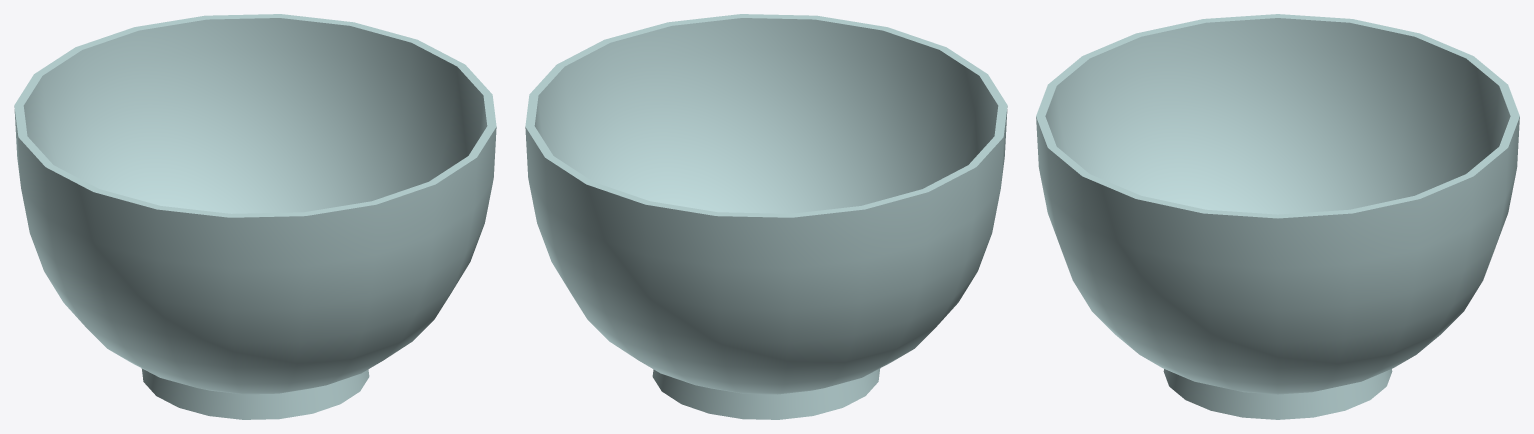
Rendered from bowl.fbx.
3 renders of one model, left to right at view 1: azimuth 30°, elevation 25°; view 2: azimuth 150°, elevation 25°; view 3: azimuth 270°, elevation 25°, orthographic.
Parts seen in each view (by area): view 1: pSphere1; view 2: pSphere1; view 3: pSphere1.
Boxes of the visible parts, left/top/right/bottom form: pSphere1: left=14, top=14, right=496, bottom=419; pSphere1: left=525, top=14, right=1007, bottom=419; pSphere1: left=1036, top=14, right=1519, bottom=419.
Size of the model in its own units: 98.23 by 57.21 by 98.23.
